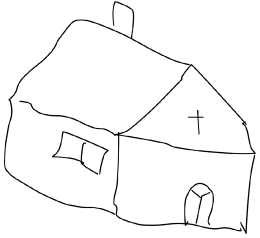big_house: (0, 1, 260, 238)
chimney: (107, 0, 141, 46)
closed_window: (47, 126, 111, 178)
door: (175, 175, 219, 234)
roof: (7, 4, 260, 156)
wall: (112, 126, 256, 236)
